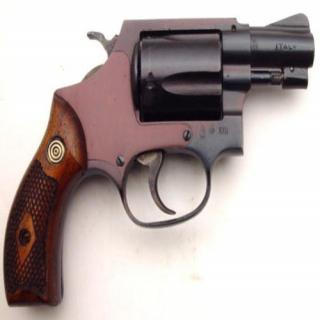gun: (5, 4, 316, 305)
